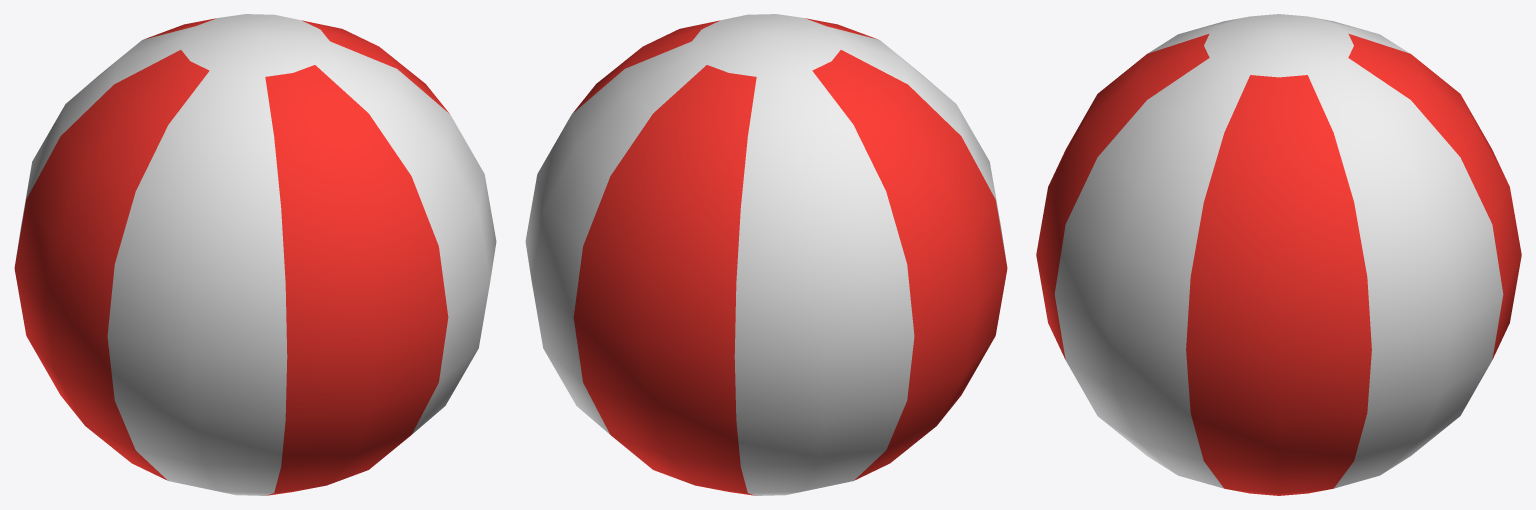
The model's file is Ball_01.fbx.
3 views of the same model, side by side, from view 1: azimuth 30°, elevation 25°; view 2: azimuth 150°, elevation 25°; view 3: azimuth 270°, elevation 25° (orthographic).
Visible parts, largest first — view 1: Ball_01; view 2: Ball_01; view 3: Ball_01.
Boxes of the visible parts, <box> form: Ball_01: <box>14,14,496,495</box>; Ball_01: <box>525,14,1007,495</box>; Ball_01: <box>1036,14,1521,495</box>.
Size of the model in its own units: 30.35 by 30.35 by 30.35.
